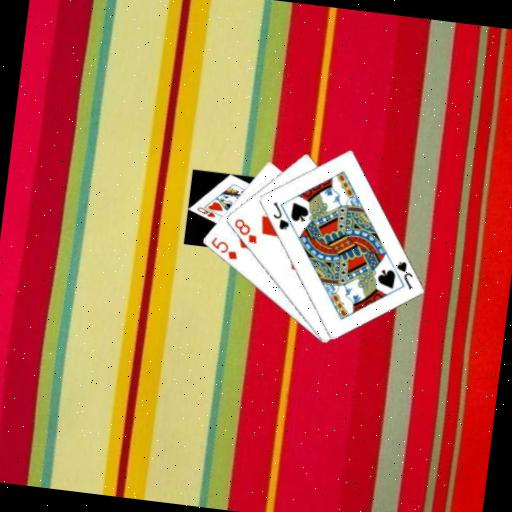5D: (206, 233, 241, 262)
8D: (229, 215, 261, 246)
JS: (267, 198, 294, 232), (391, 257, 418, 291)
